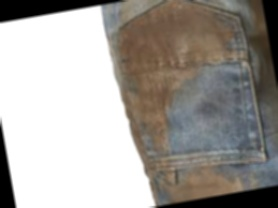earth: (122, 7, 230, 79), (137, 73, 171, 137), (170, 172, 230, 203), (162, 71, 182, 94)
